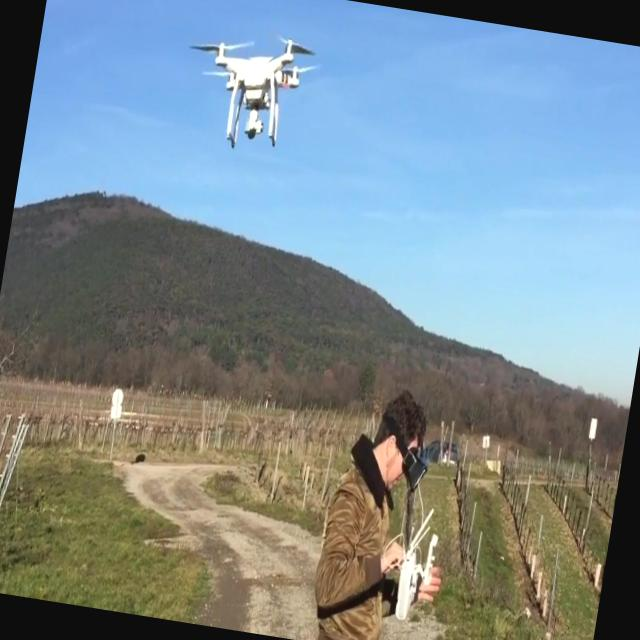drone: (173, 17, 324, 162)
